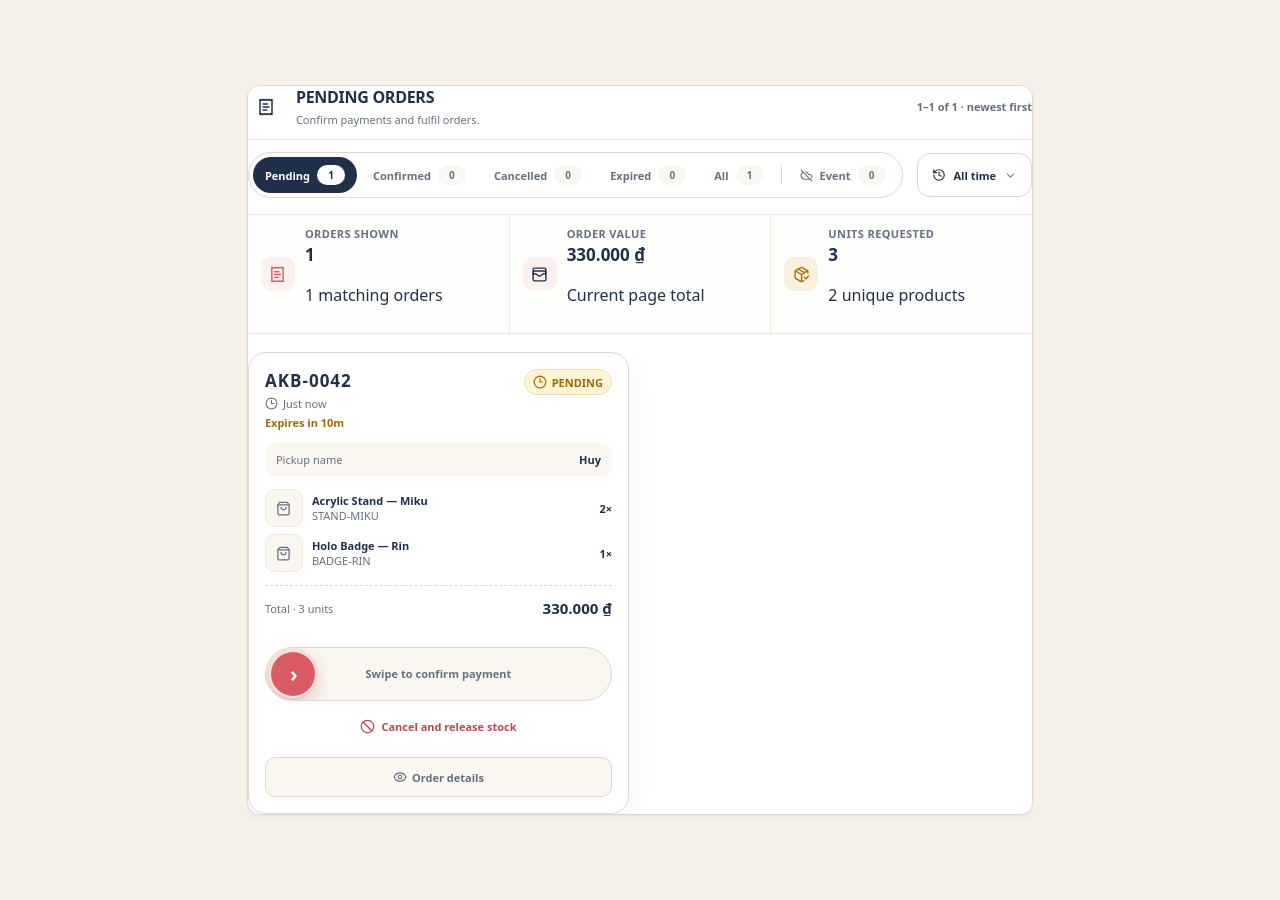
it: OrderQueue › confirms a pending order through the swipe gesture
Press the mouse on the button with aria-label "swipe right or press enter" at (438, 674), box [265,648,612,702]
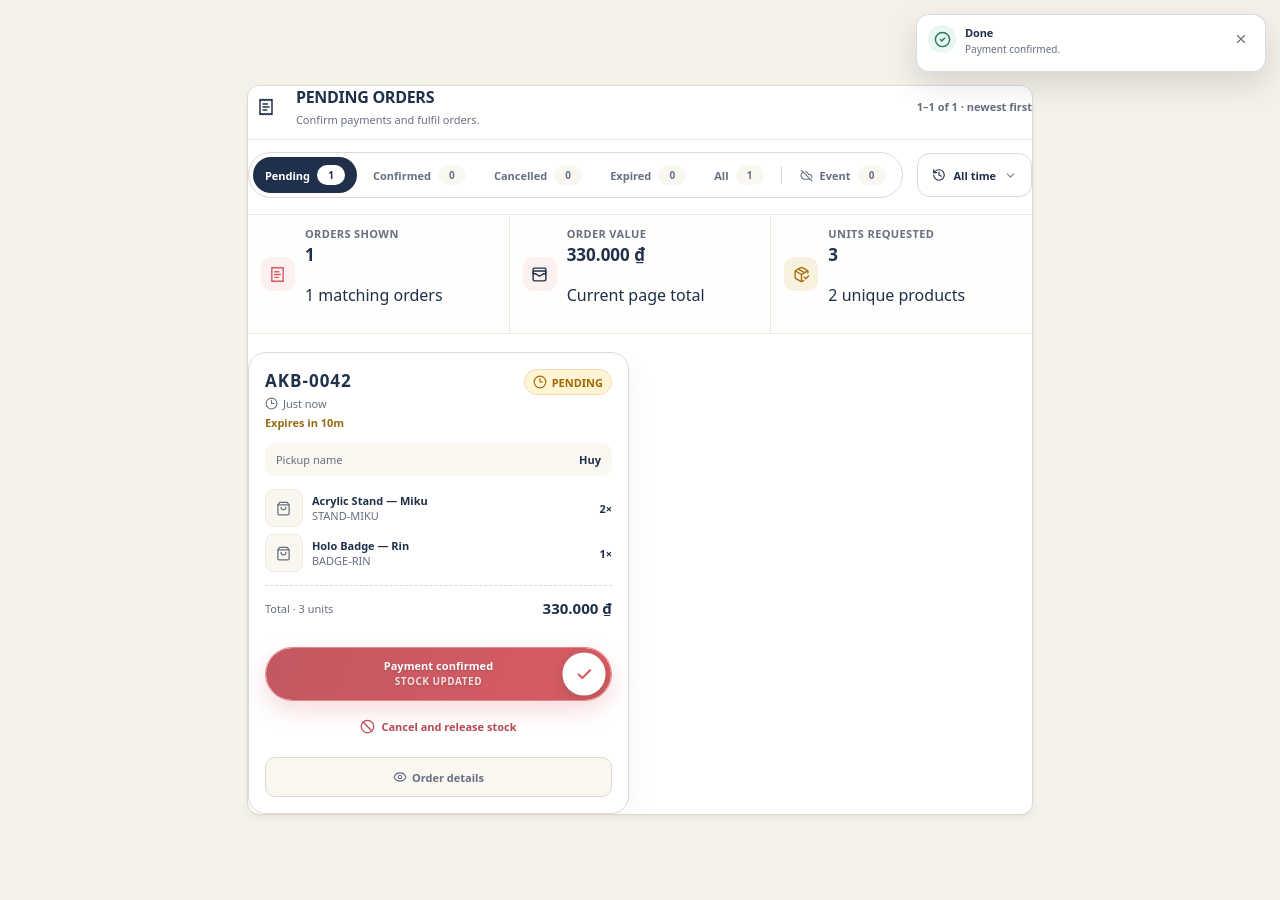
Expected: the text "Payment confirmed" is shown, [384,660,493,672]
Expected: the text "Stock updated" is shown, [395,676,482,687]
Expected: the text "Payment confirmed." is shown, [965,42,1060,56]
